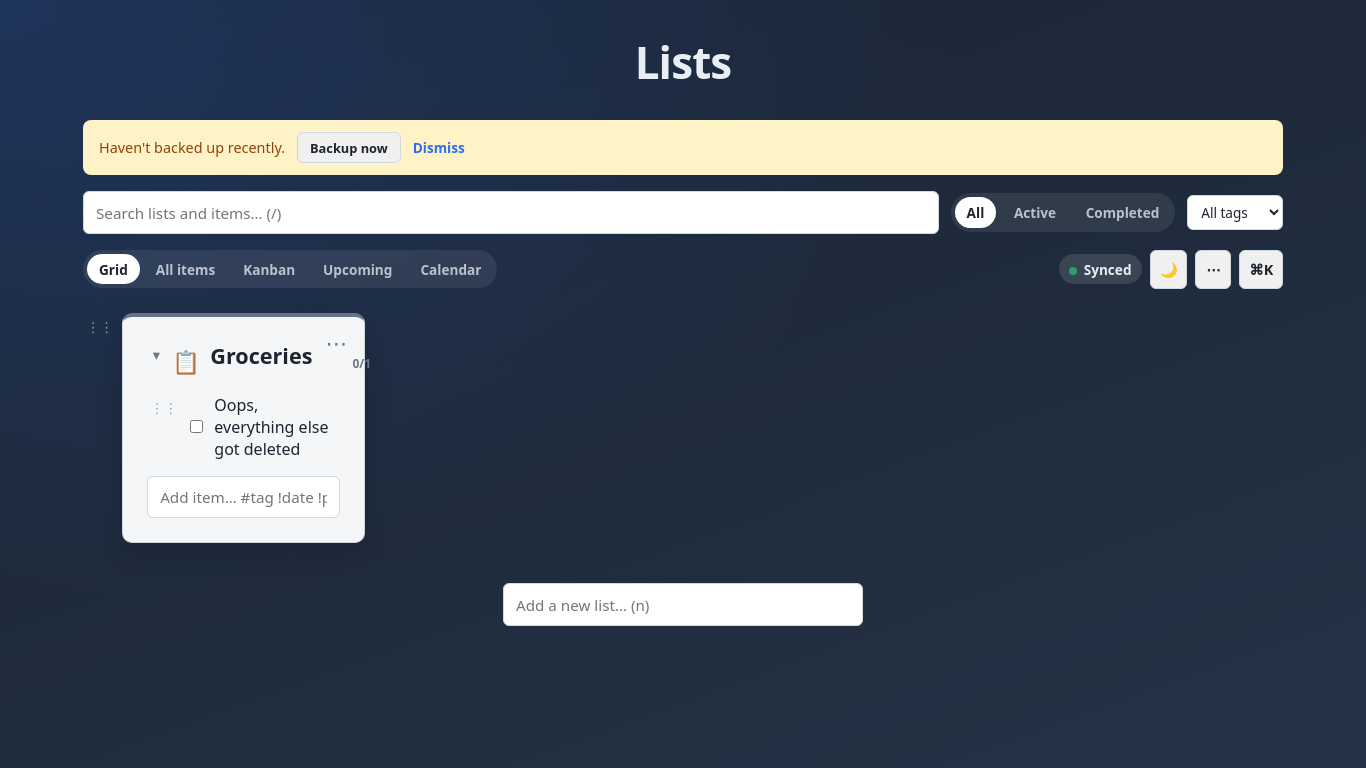
Test: sync › restores an earlier version from the Sync dialog, and the restore can be undone
The image size is (1366, 768).
Expected: the button "Oops, everything else got deleted" is shown, [214, 394, 340, 460]
Click the button with aria-label "Sync: Synced".
click(1100, 269)  # box [1059, 254, 1142, 284]
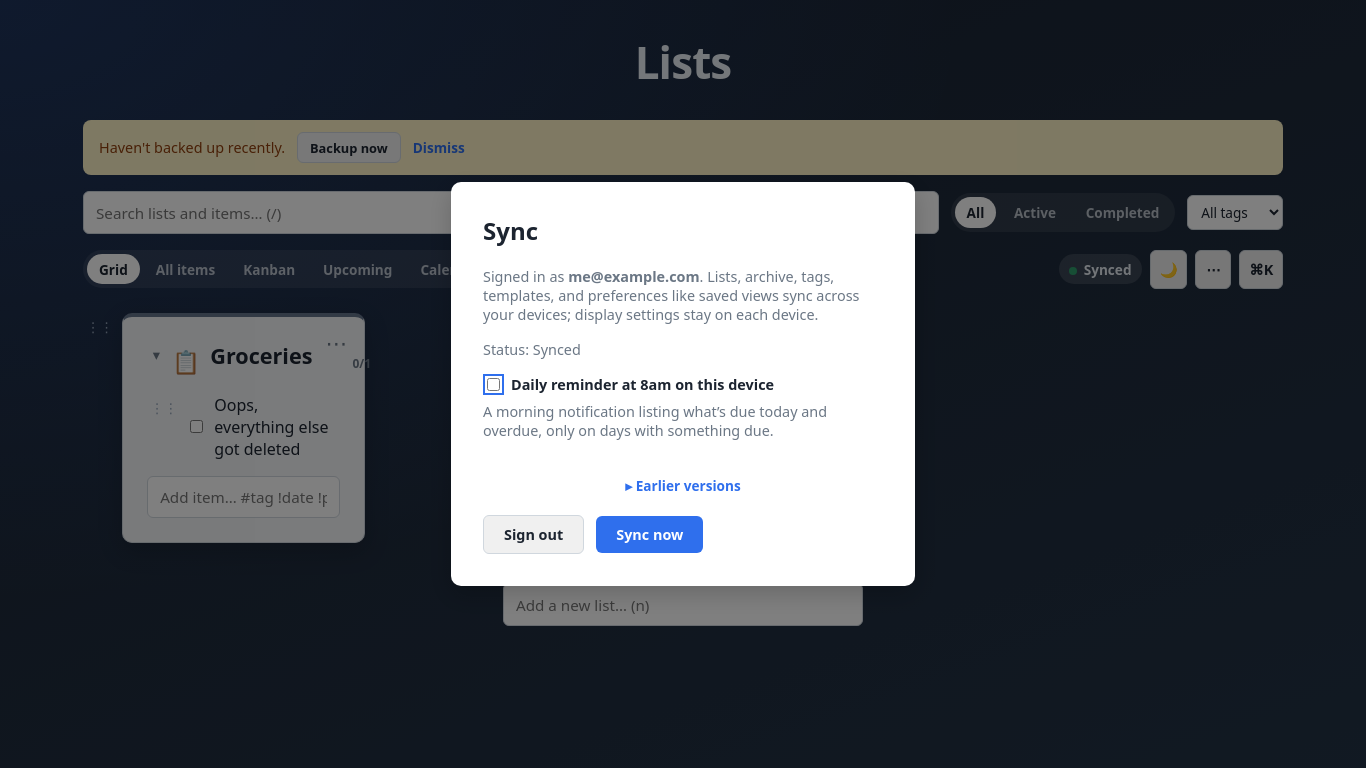
Click the button "▸ Earlier versions".
click(683, 486)  # box [483, 476, 883, 495]
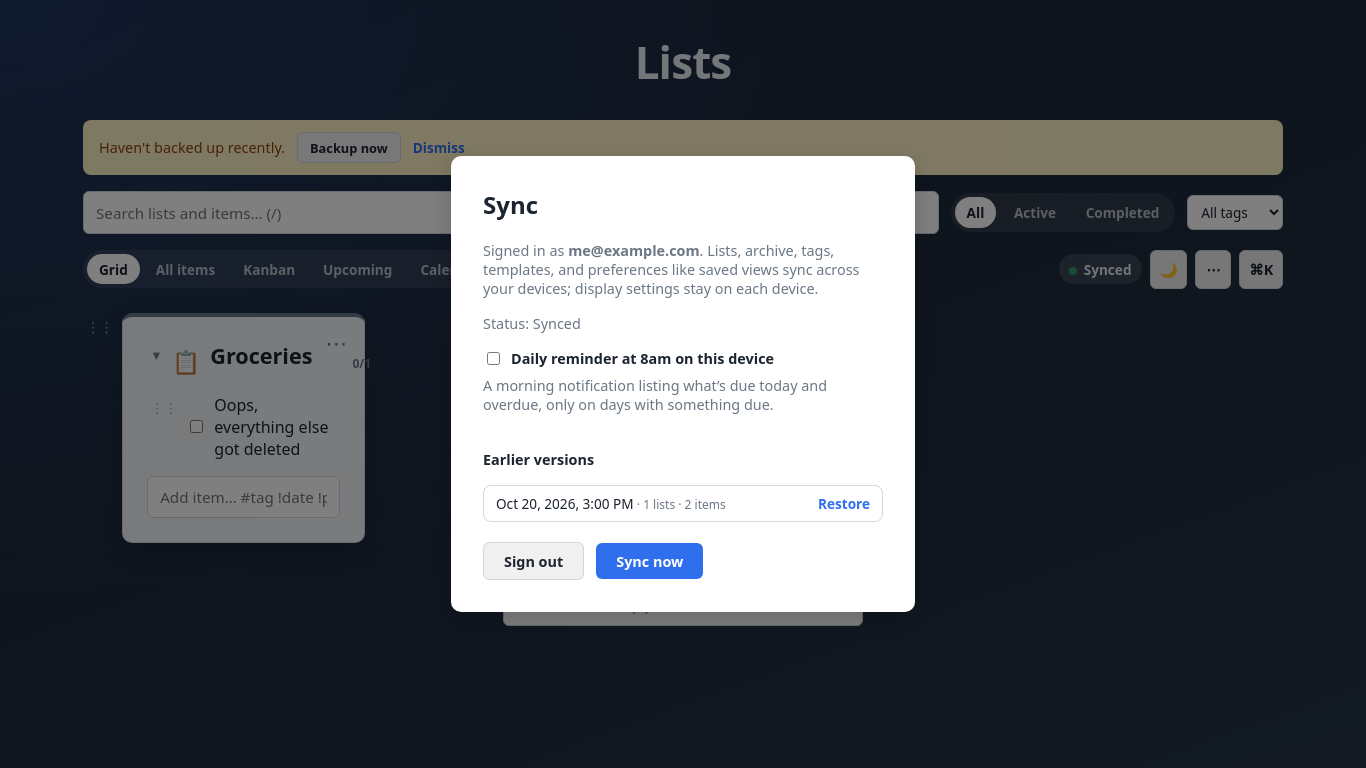
Expected: the text "· 1 lists · 2 items" is shown, [634, 496, 726, 513]
Click the button "Restore".
click(844, 503)  # box [818, 494, 870, 513]
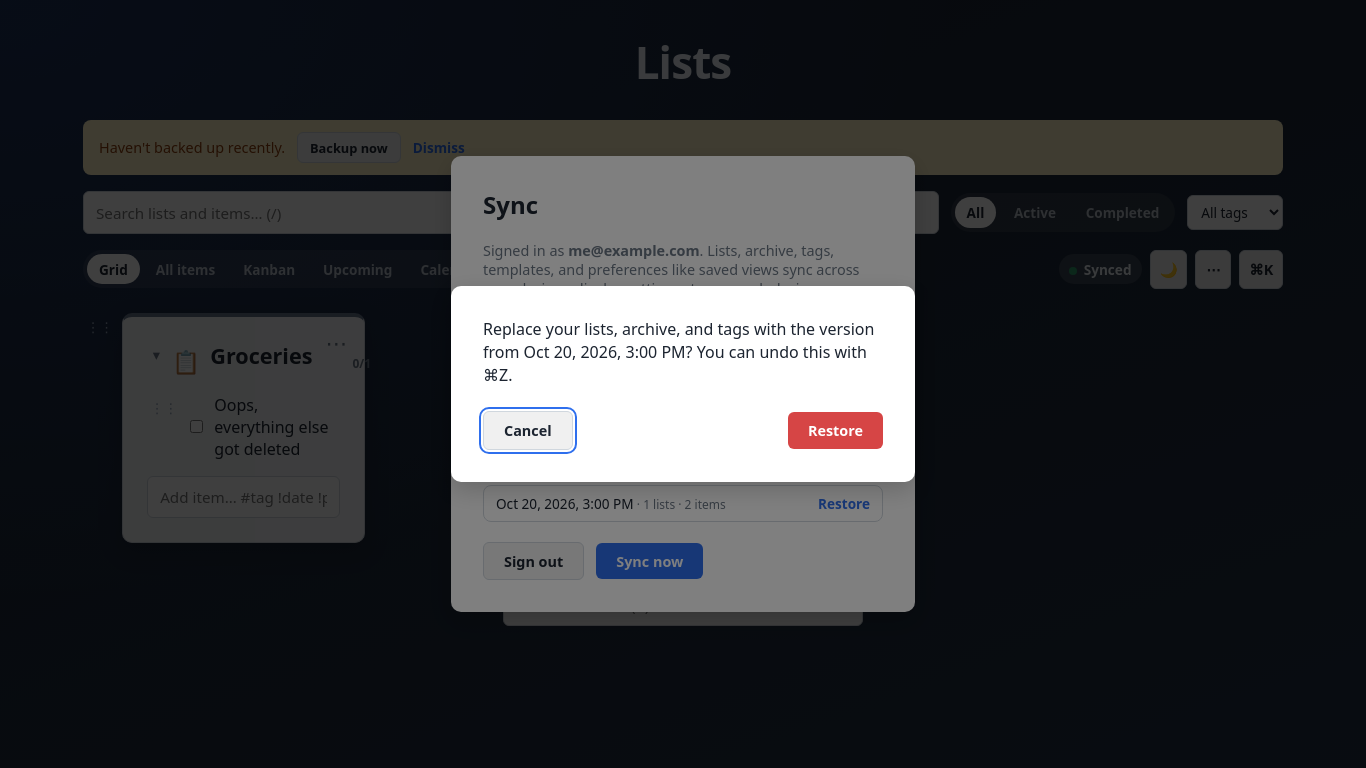
Click the button "Restore".
click(835, 431)  # box [788, 412, 883, 449]
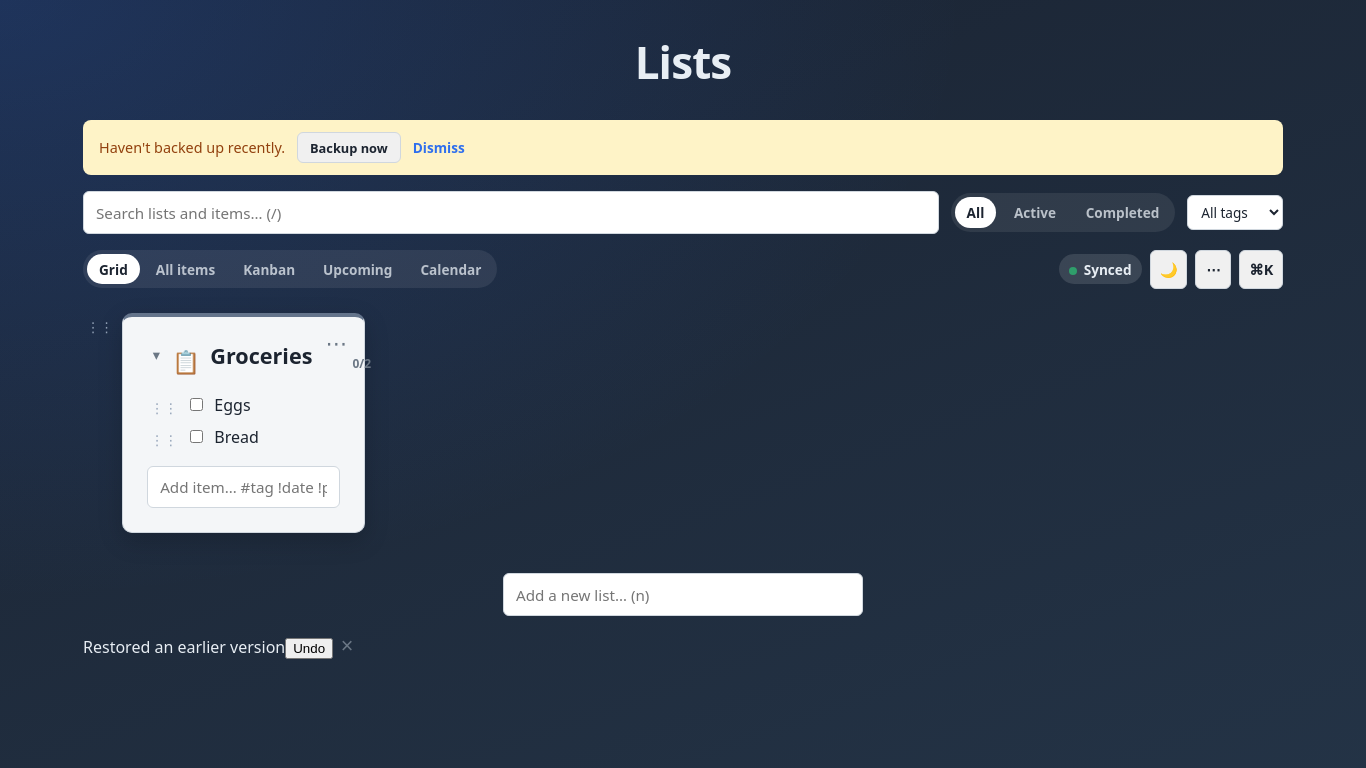
Expected: the button "Eggs" is shown, [214, 394, 251, 416]
Expected: the button "Bread" is shown, [214, 426, 259, 448]
Expected: the button "Oops, everything else got deleted" is gone
Click the button "Undo".
click(309, 649)  # box [285, 638, 333, 659]
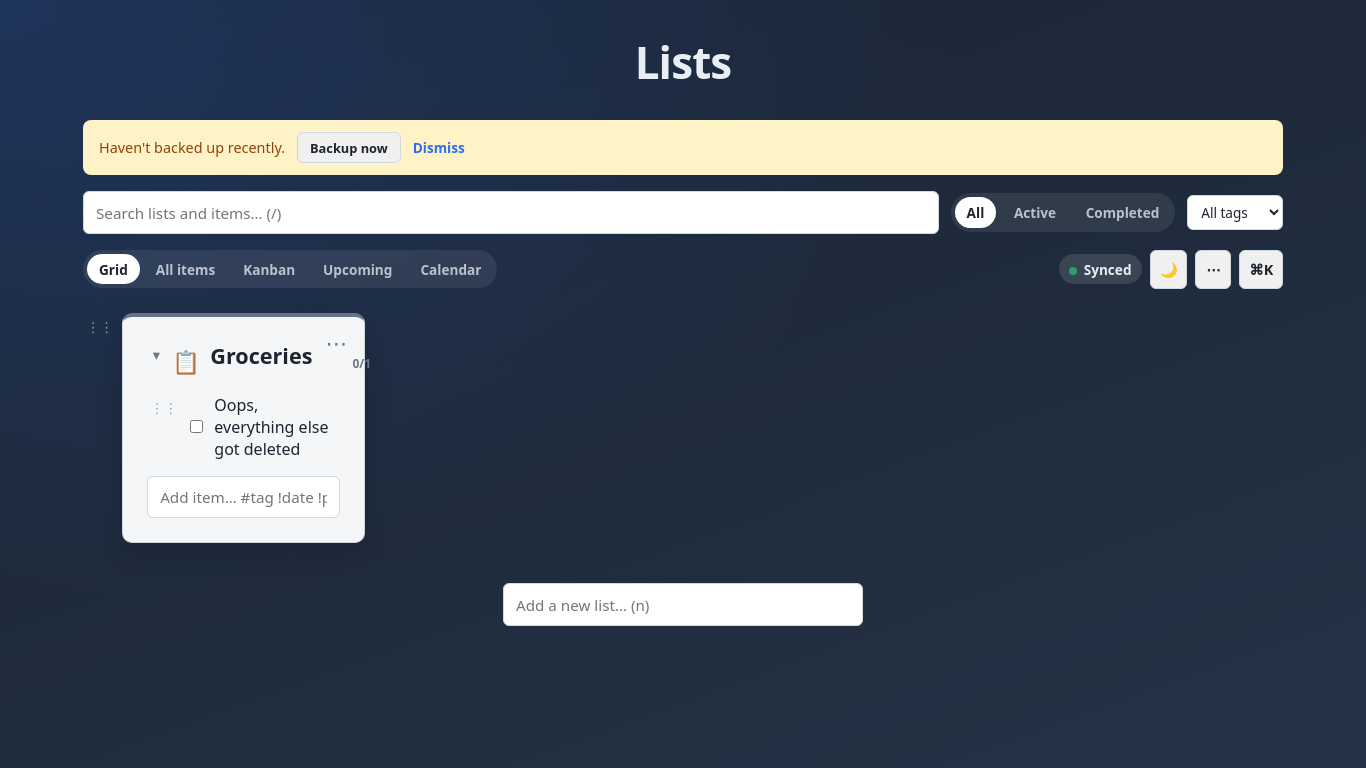
Expected: the button "Oops, everything else got deleted" is shown, [214, 394, 340, 460]
Expected: the button "Eggs" is gone
